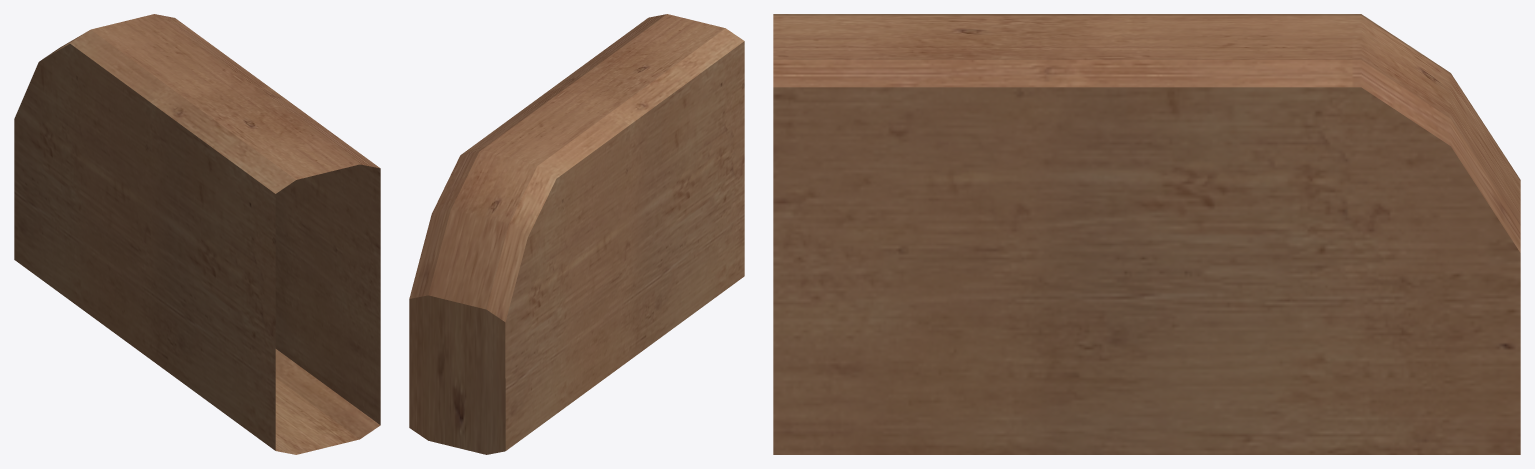
File: SM_JSH_BeamE.fbx
3 renders of one model, left to right at view 1: azimuth 30°, elevation 25°; view 2: azimuth 150°, elevation 25°; view 3: azimuth 270°, elevation 25°, orthographic. The views are drawn at different scales.
Visible parts, largest first — view 1: SM_JSH_BeamE; view 2: SM_JSH_BeamE; view 3: SM_JSH_BeamE.
Part boxes in pixels (x1,y1,x2,y2): SM_JSH_BeamE: [14, 14, 380, 454]; SM_JSH_BeamE: [409, 14, 744, 454]; SM_JSH_BeamE: [773, 14, 1520, 454].
Size of the model in its own units: 16.75 by 72.16 by 41.9.
Materials: 1 (1 with a texture image).
